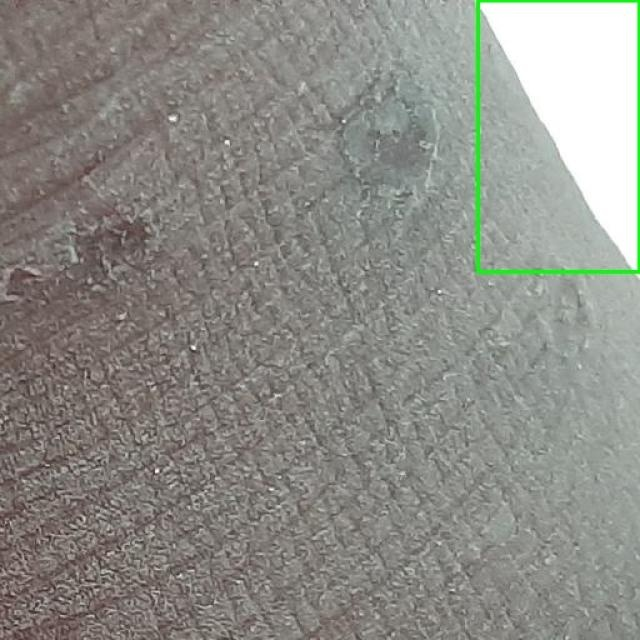Contact Dermatitis: (478, 0, 639, 272)
